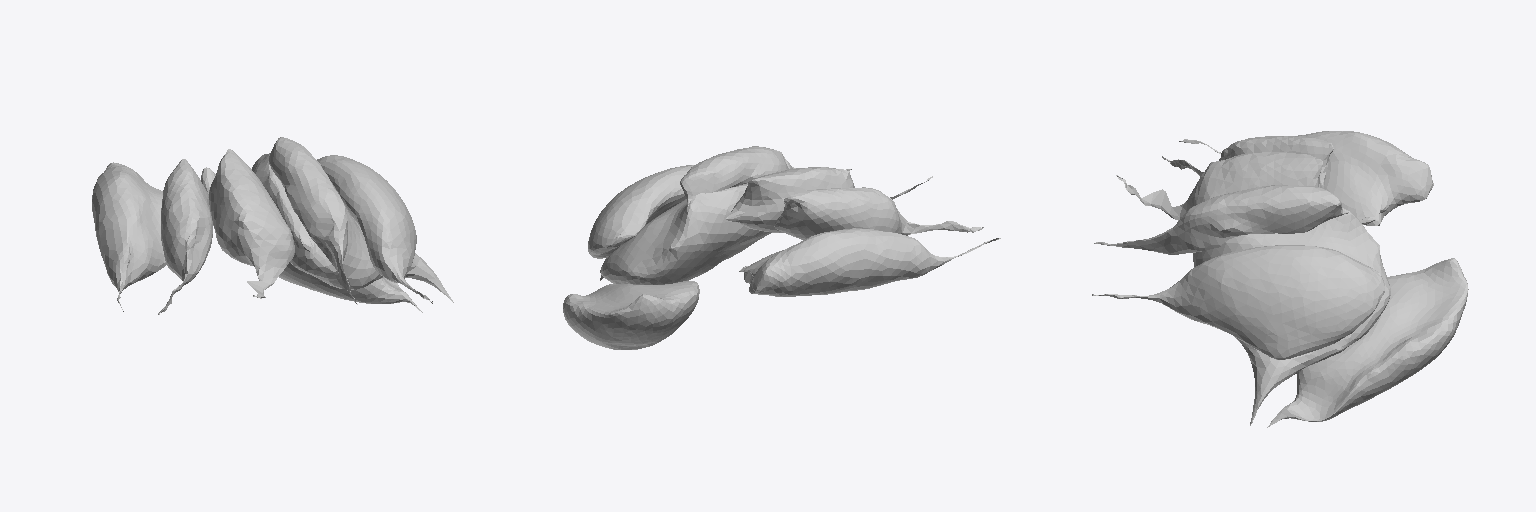
File: rand_1_muscle.obj
3 views of the same model, side by side, from view 1: azimuth 30°, elevation 25°; view 2: azimuth 150°, elevation 25°; view 3: azimuth 270°, elevation 25° (orthographic).
Size of the model in its own units: 95.72 by 46.69 by 85.53.